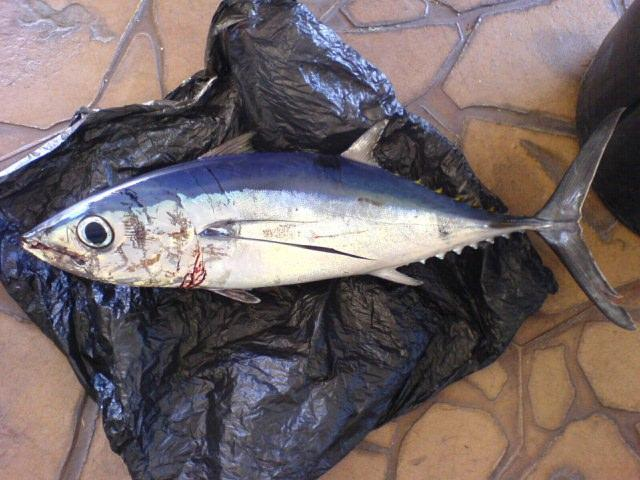Mulut: (3, 209, 75, 281)
Sirip Anal: (358, 256, 434, 304)
Sirip Dada: (179, 204, 395, 258)
Sirip Ekor: (526, 93, 640, 347)
Sirip Perut: (188, 275, 276, 313)
Sirip Punggung: (182, 109, 416, 179)
